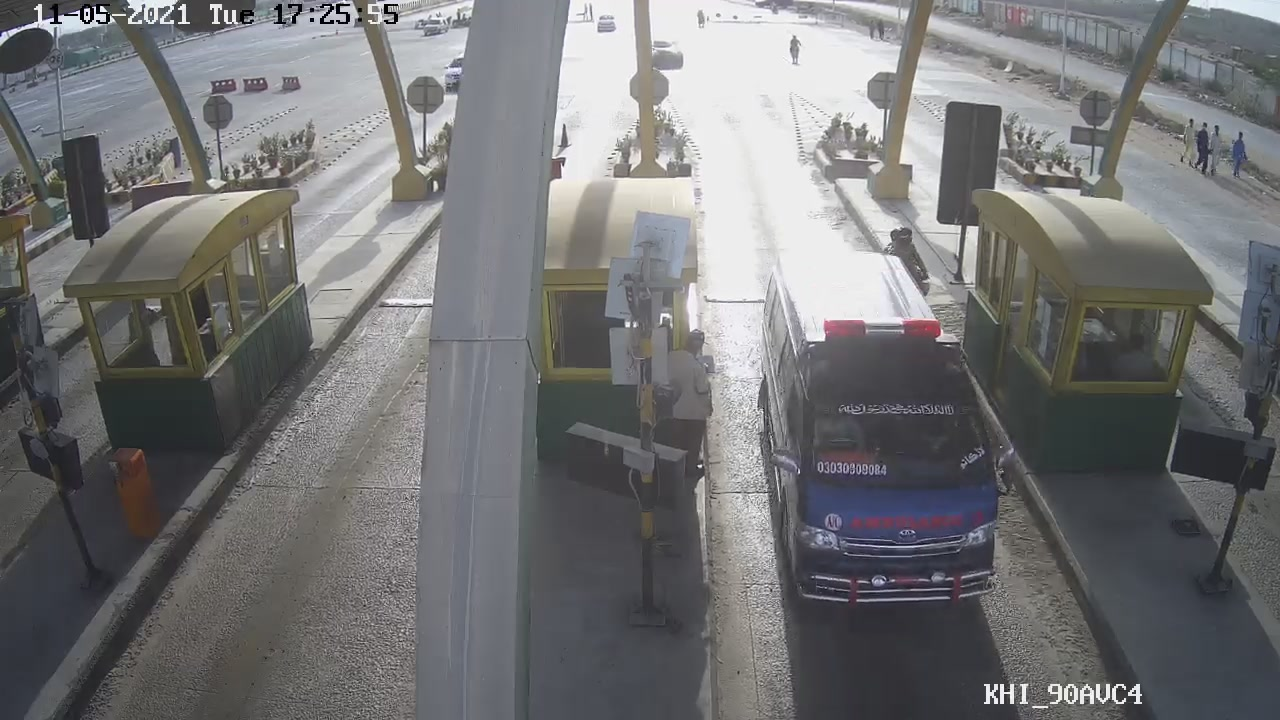F2: (757, 248, 1002, 613)
